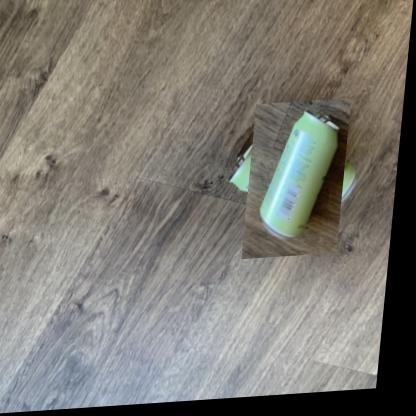trash: (260, 111, 338, 237)
